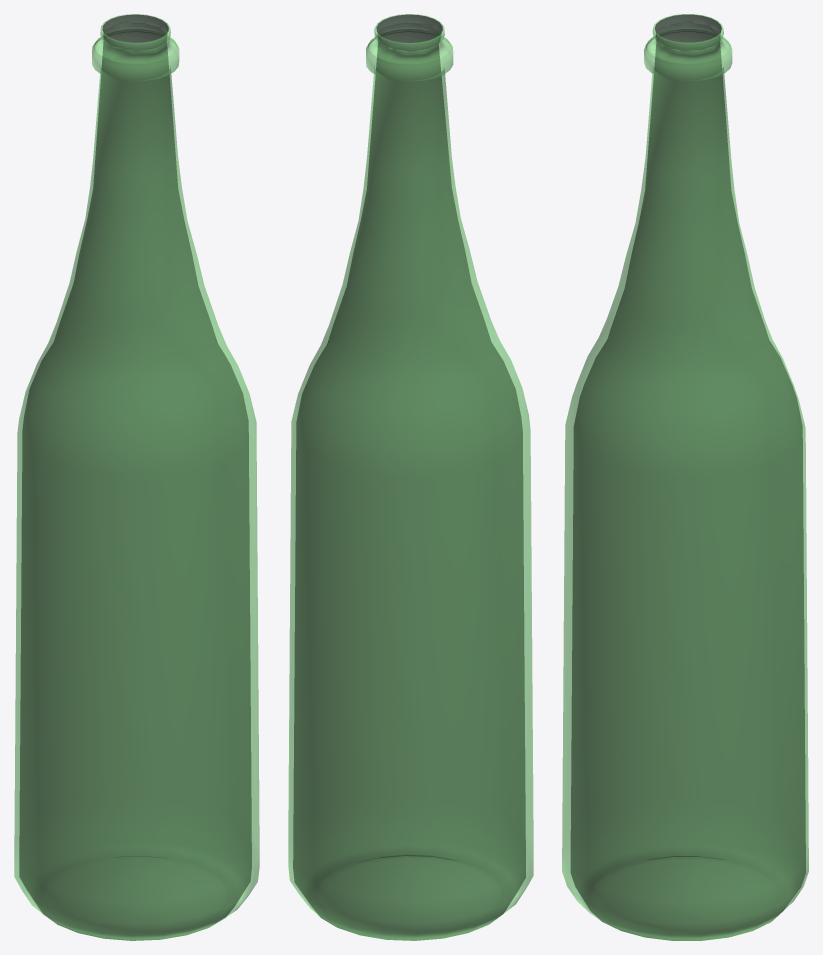
Rendered from WineBottle.fbx.
The picture shows the model from 3 angles, left to right: view 1: azimuth 30°, elevation 25°; view 2: azimuth 150°, elevation 25°; view 3: azimuth 270°, elevation 25°; orthographic projection.
Parts seen in each view (by area): view 1: Outside; view 2: Outside; view 3: Outside.
Part boxes in pixels (x1,y1,x2,y2): Outside: [14, 14, 259, 940]; Outside: [288, 14, 533, 940]; Outside: [562, 14, 808, 940].
Size of the model in its own units: 102 by 402 by 103.
